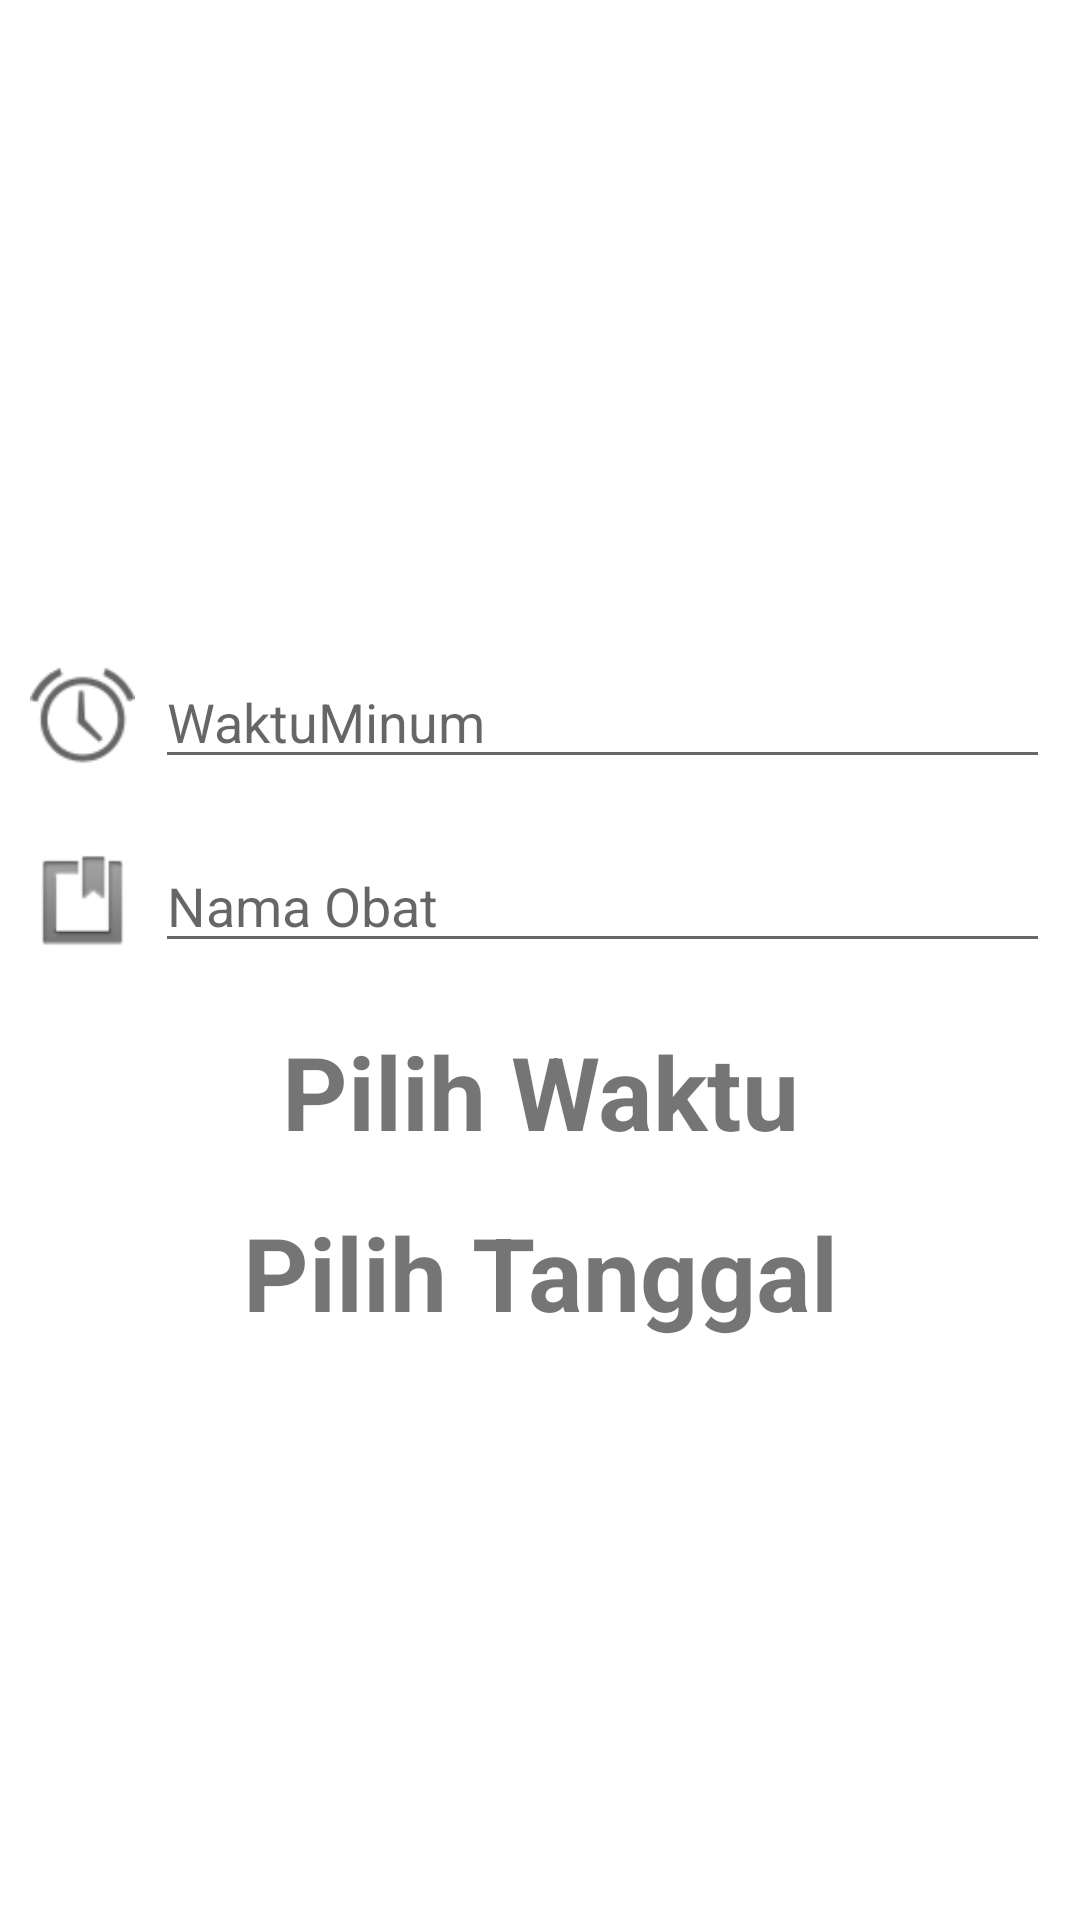

Icons on this 1080 x 1920 Android screen, each with its box as (x1, y1, x2, y2):
lock idle alarm: (30, 668, 135, 763)
